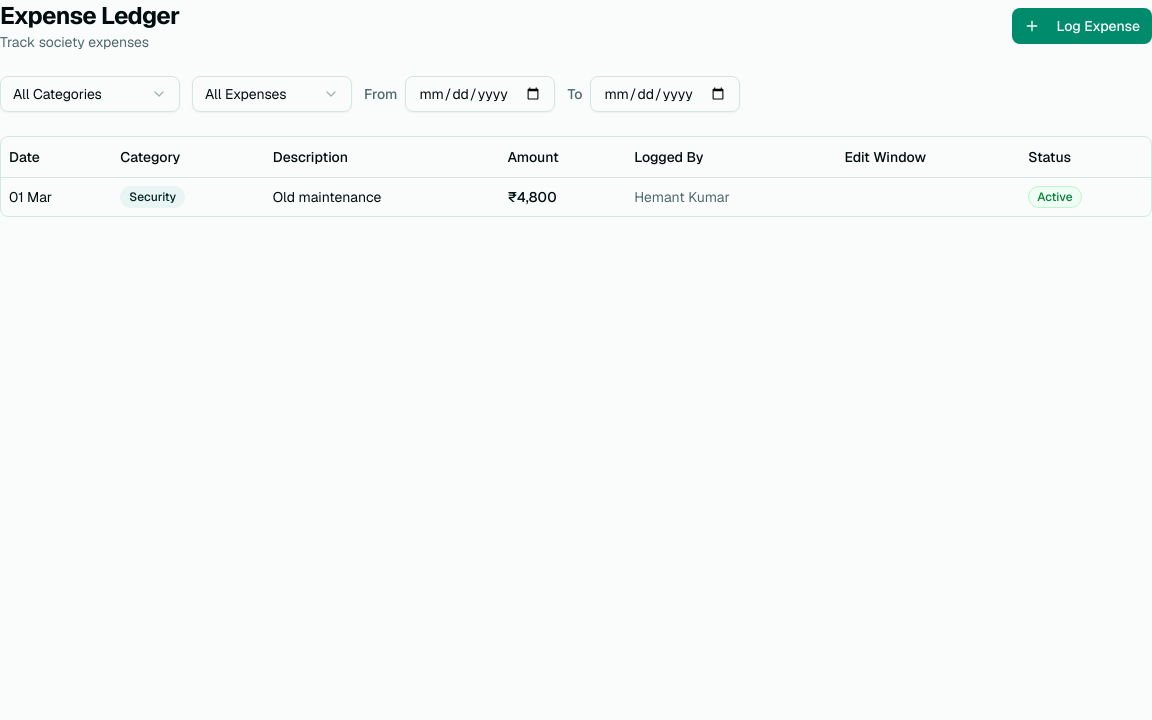
Admin ExpensesPage › shows only Reverse button in detail sheet when correction window expired
This screenshot has width=1152, height=720.
Click the text "Old maintenance" at (327, 196), box [273, 188, 381, 206]
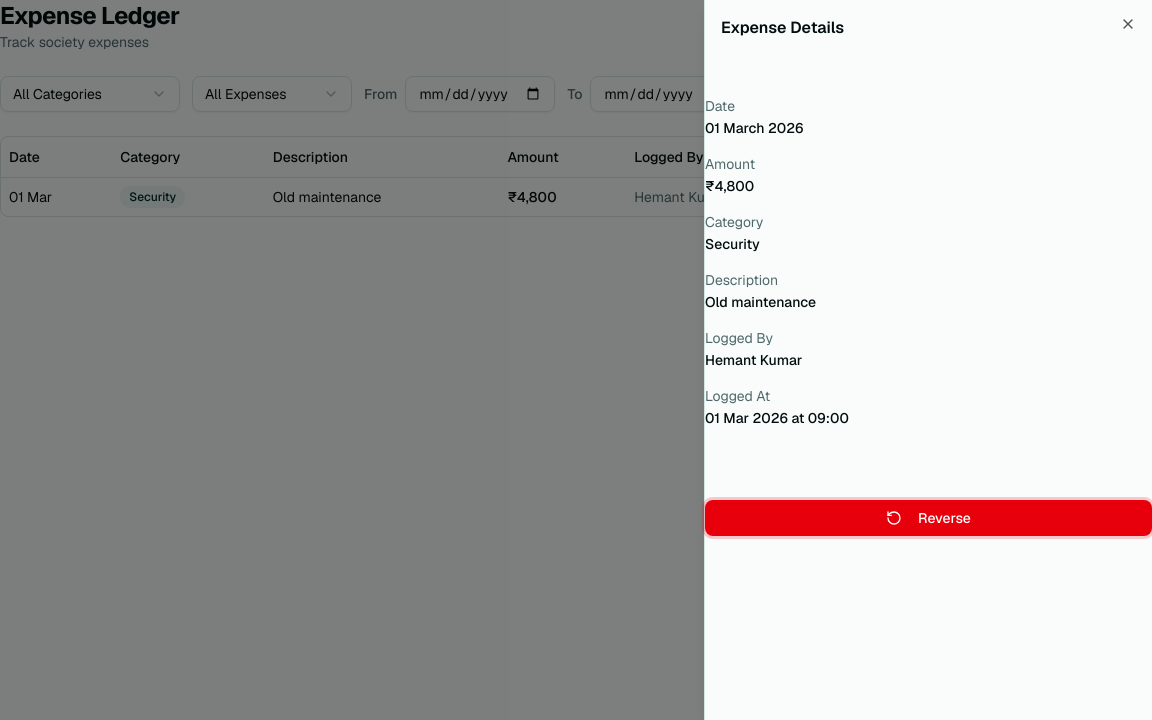
Now the button "Reverse" is shown, box [705, 500, 1151, 536]
